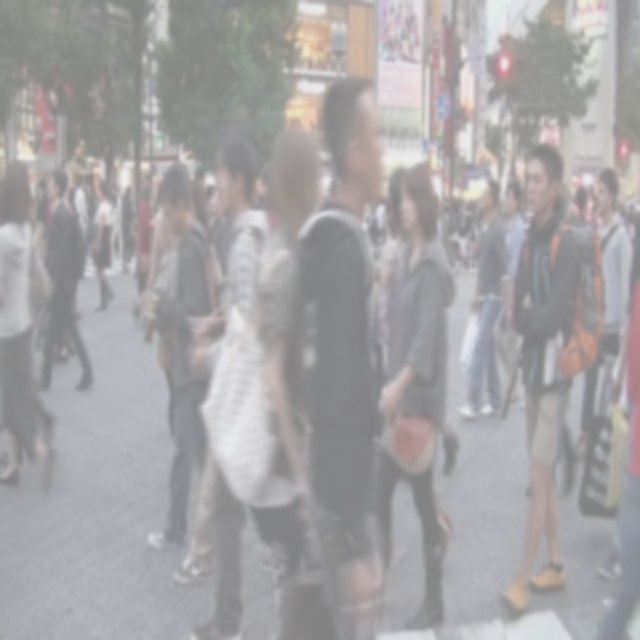pessoa: (198, 122, 324, 638), (286, 69, 394, 639), (493, 138, 607, 616), (186, 134, 270, 586), (372, 157, 448, 635), (144, 166, 219, 554), (0, 156, 66, 471), (596, 193, 640, 638), (144, 160, 198, 446), (30, 166, 96, 396), (454, 176, 514, 423), (361, 168, 398, 416), (592, 166, 634, 356), (494, 178, 528, 406), (170, 450, 217, 594), (188, 154, 232, 266), (434, 187, 479, 270), (90, 178, 116, 314), (64, 152, 80, 370), (570, 360, 600, 468), (376, 0, 422, 67), (558, 174, 600, 233), (431, 422, 468, 478), (137, 176, 162, 256), (248, 158, 279, 216), (119, 182, 136, 276), (108, 180, 126, 259), (74, 174, 91, 247), (85, 178, 98, 258), (148, 166, 168, 216), (128, 276, 146, 324)
